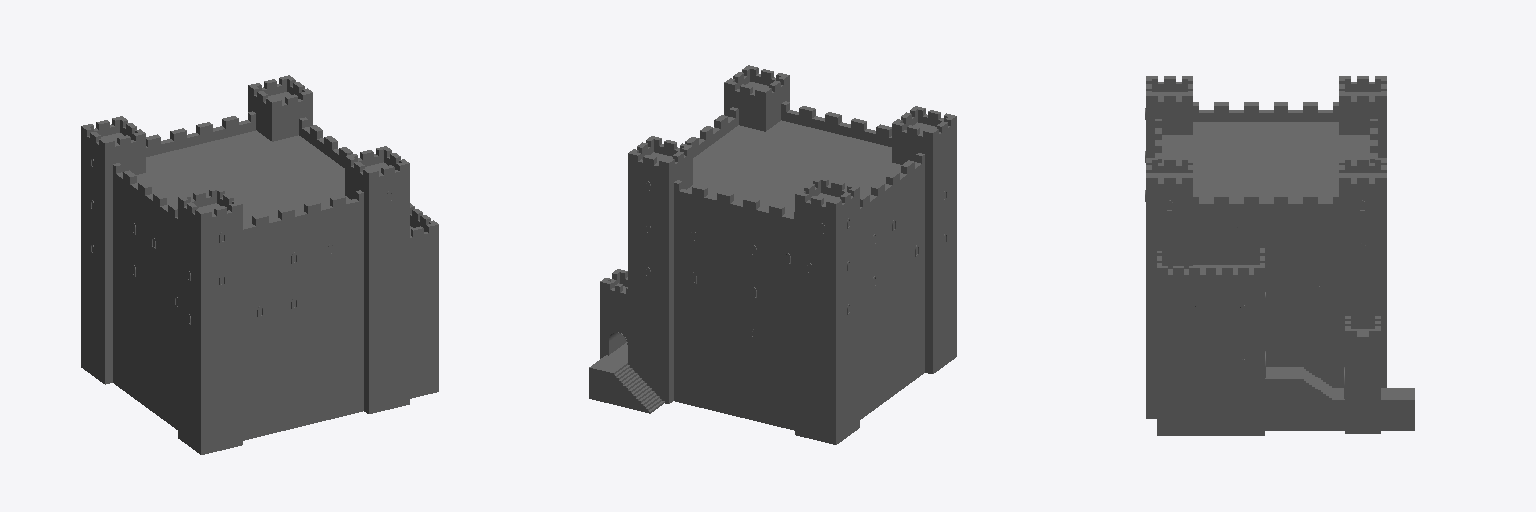
File: keep.obj
3 renders of one model, left to right at view 1: azimuth 30°, elevation 25°; view 2: azimuth 150°, elevation 25°; view 3: azimuth 270°, elevation 25°, orthographic.
Visible parts, largest first — view 1: Keep_Untitled; view 2: Keep_Untitled; view 3: Keep_Untitled.
Part boxes in pixels (x1,y1,x2,y2): Keep_Untitled: (81,75,438,454); Keep_Untitled: (589,65,956,444); Keep_Untitled: (1145,76,1414,435).
Bounding box in the file's own units: 27.88 × 26.27 × 26.64.